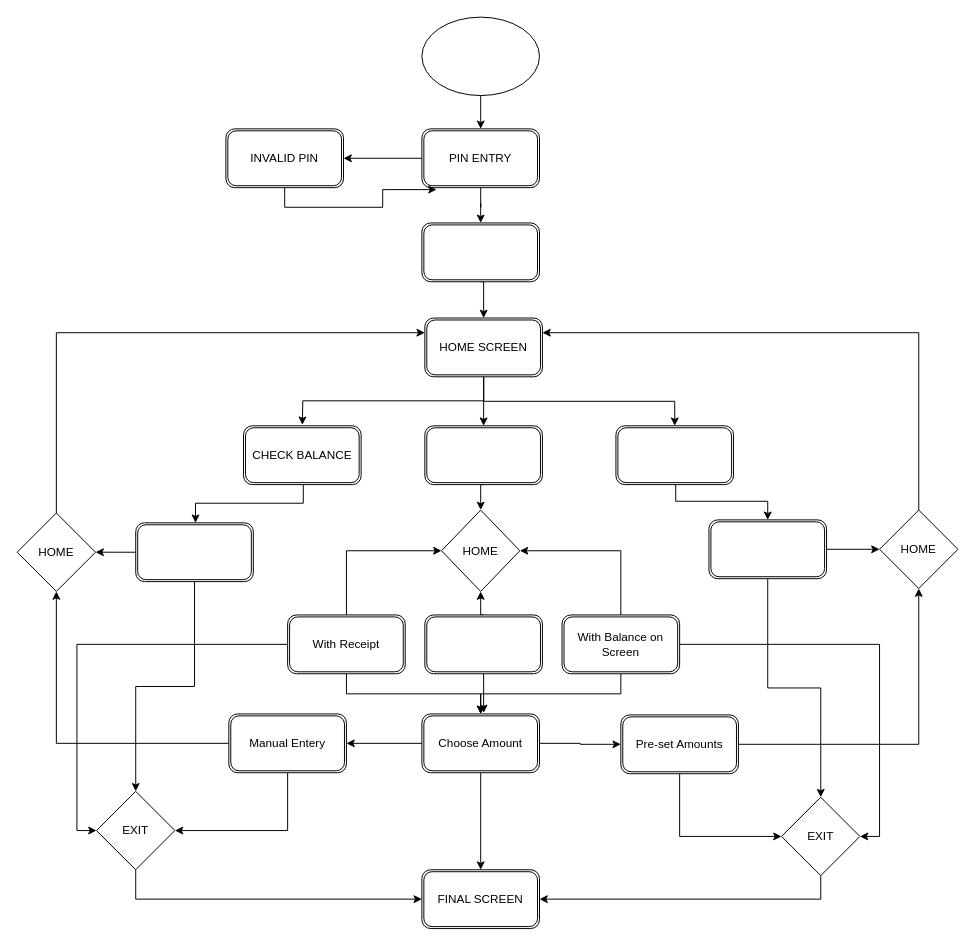
The diagram is 975 pixels wide and 946 high, and some of its shapes have lost their labels. The shapes that lost their labels are listed below. From the top down, each one's centre as x and y in pixels, then its label:
At (x=480, y=56): "MAIN SCREEN".
At (x=480, y=252): "VALID PIN".
At (x=483, y=455): "CASH WITHDRAWAL".
At (x=674, y=455): "CHANGE PIN NUMBER".
At (x=194, y=552): "Balance Screen".
At (x=767, y=549): "Pin Changed".
At (x=483, y=644): "Without Receipt".
